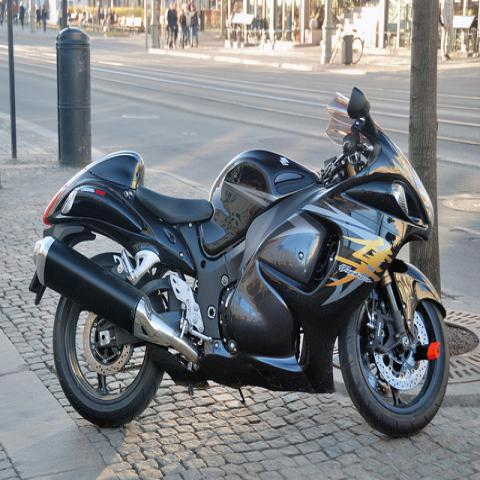motorcycle: (27, 86, 453, 437)
